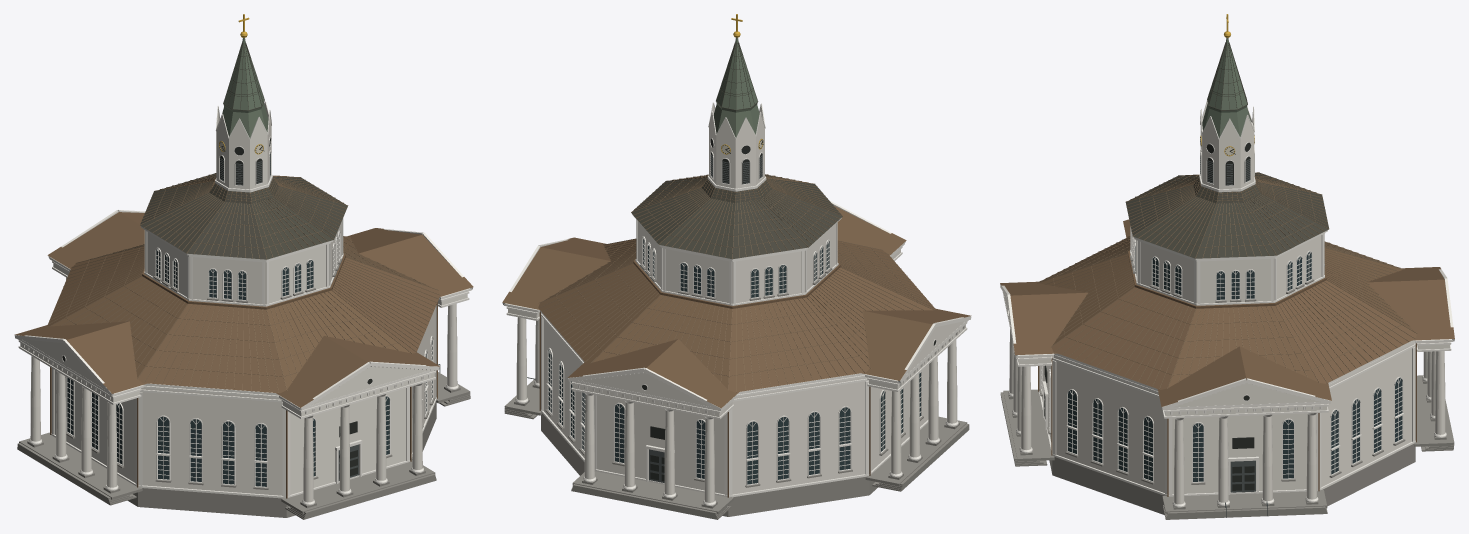
The model's file is sjalevads-kyrka-v1.glb.
The picture shows the model from 3 angles, left to right: view 1: azimuth 30°, elevation 25°; view 2: azimuth 150°, elevation 25°; view 3: azimuth 270°, elevation 25°; orthographic projection.
Visible parts, largest first — view 1: sjalevads-kyrka copper, sjalevads-kyrka plaster, sjalevads-kyrka trim, sjalevads-kyrka copper_, sjalevads-kyrka upper_r, sjalevads-kyrka granite, sjalevads-kyrka glass, sjalevads-kyrka patina, sjalevads-kyrka dark, sjalevads-kyrka door; view 2: sjalevads-kyrka copper, sjalevads-kyrka plaster, sjalevads-kyrka trim, sjalevads-kyrka copper_, sjalevads-kyrka upper_r, sjalevads-kyrka granite, sjalevads-kyrka glass, sjalevads-kyrka patina, sjalevads-kyrka dark, sjalevads-kyrka door; view 3: sjalevads-kyrka copper, sjalevads-kyrka plaster, sjalevads-kyrka trim, sjalevads-kyrka copper_, sjalevads-kyrka upper_r, sjalevads-kyrka granite, sjalevads-kyrka glass, sjalevads-kyrka patina, sjalevads-kyrka dark, sjalevads-kyrka door.
Part boxes in pixels (x1,y1,x2,y2): sjalevads-kyrka copper: (14, 212, 473, 498); sjalevads-kyrka plaster: (20, 103, 467, 502); sjalevads-kyrka trim: (14, 101, 472, 505); sjalevads-kyrka copper_: (47, 173, 440, 392); sjalevads-kyrka upper_r: (140, 42, 347, 259); sjalevads-kyrka granite: (17, 258, 470, 519); sjalevads-kyrka glass: (67, 248, 432, 486); sjalevads-kyrka patina: (222, 38, 268, 137); sjalevads-kyrka dark: (62, 138, 372, 478); sjalevads-kyrka door: (220, 153, 440, 480); sjalevads-kyrka copper: (502, 206, 971, 497); sjalevads-kyrka plaster: (508, 105, 965, 502); sjalevads-kyrka trim: (502, 102, 971, 505); sjalevads-kyrka copper_: (538, 174, 935, 391); sjalevads-kyrka upper_r: (631, 42, 842, 259); sjalevads-kyrka granite: (504, 264, 969, 519); sjalevads-kyrka glass: (548, 238, 920, 484); sjalevads-kyrka patina: (713, 37, 759, 137); sjalevads-kyrka dark: (642, 138, 935, 481); sjalevads-kyrka door: (527, 155, 762, 482); sjalevads-kyrka copper: (1000, 219, 1454, 496); sjalevads-kyrka plaster: (1003, 103, 1449, 504); sjalevads-kyrka trim: (1000, 101, 1454, 507); sjalevads-kyrka copper_: (1037, 172, 1417, 389); sjalevads-kyrka upper_r: (1125, 42, 1328, 258); sjalevads-kyrka granite: (1000, 255, 1454, 519); sjalevads-kyrka glass: (1068, 246, 1402, 481); sjalevads-kyrka patina: (1202, 38, 1250, 137); sjalevads-kyrka dark: (1044, 135, 1254, 490); sjalevads-kyrka door: (1200, 153, 1267, 517).
Size of the model in its own units: 42.68 by 43.75 by 42.68.
